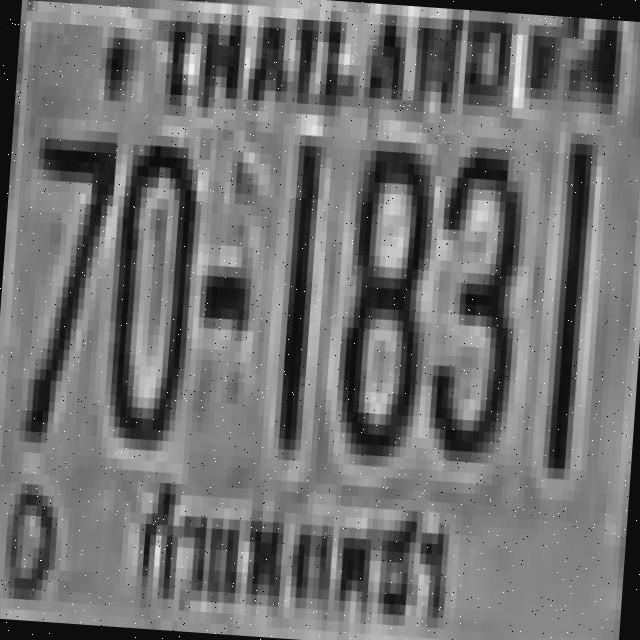0: (102, 132, 200, 442)
1: (542, 132, 593, 469), (540, 132, 590, 469), (270, 134, 319, 450), (273, 128, 317, 444)
3: (422, 134, 520, 454)
7: (16, 127, 114, 436)
8: (333, 128, 432, 448)
KamphaengPhet: (121, 465, 465, 640)
